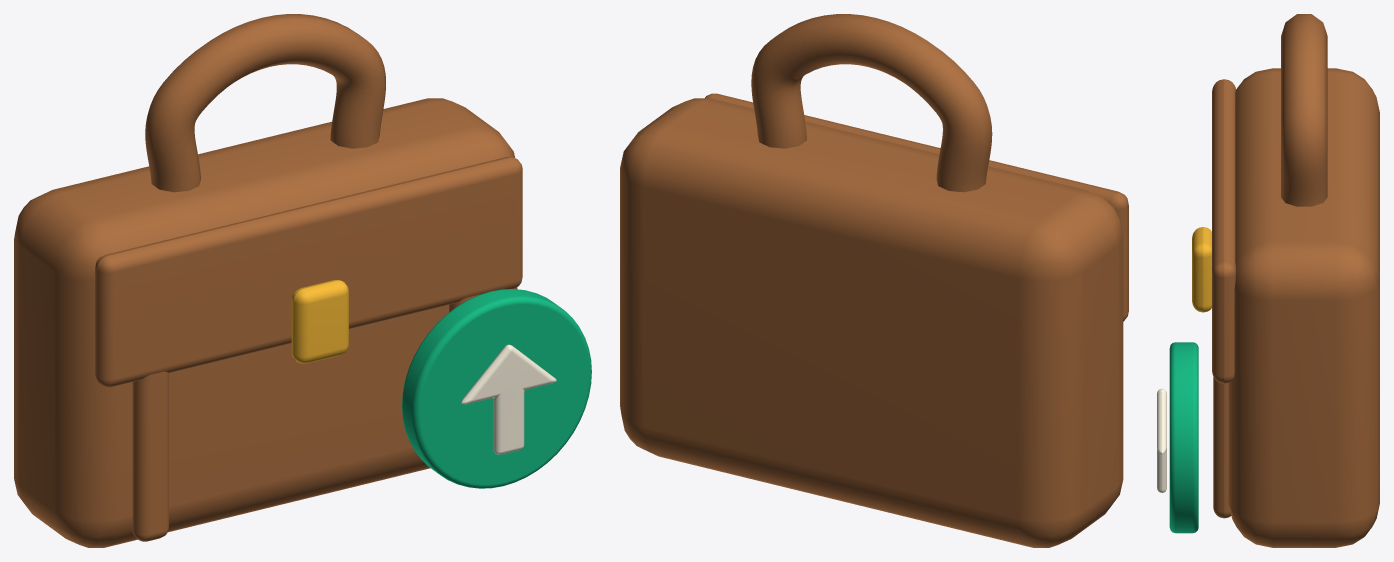
File: briefcase-up.glb
3 views of the same model, side by side, from view 1: azimuth 30°, elevation 25°; view 2: azimuth 150°, elevation 25°; view 3: azimuth 270°, elevation 25° (orthographic). The views are drawn at different scales.
Visible parts, largest first — view 1: Rounded leather briefcase, Briefcase front flap, Promotion green badge, Leather carry handle, Leather reinforced strap, Up arrow shape, Gold clasp; view 2: Rounded leather briefcase, Leather carry handle, Briefcase front flap; view 3: Rounded leather briefcase, Leather carry handle, Briefcase front flap, Promotion green badge, Leather reinforced strap.001, Gold clasp, Up arrow shape.
Part boxes in pixels (left/top/right/bottom): Rounded leather briefcase: left=14, top=98, right=517, bottom=547; Briefcase front flap: left=95, top=157, right=522, bottom=387; Promotion green badge: left=402, top=289, right=591, bottom=488; Leather carry handle: left=145, top=14, right=385, bottom=192; Leather reinforced strap: left=132, top=371, right=168, bottom=541; Up arrow shape: left=461, top=344, right=556, bottom=454; Gold clasp: left=291, top=280, right=348, bottom=363; Rounded leather briefcase: left=620, top=98, right=1123, bottom=547; Leather carry handle: left=751, top=14, right=992, bottom=192; Briefcase front flap: left=705, top=93, right=1128, bottom=321; Rounded leather briefcase: left=1228, top=68, right=1379, bottom=547; Leather carry handle: left=1281, top=14, right=1327, bottom=206; Briefcase front flap: left=1212, top=79, right=1235, bottom=383; Promotion green badge: left=1169, top=342, right=1198, bottom=533; Leather reinforced strap.001: left=1213, top=377, right=1231, bottom=518; Gold clasp: left=1192, top=227, right=1211, bottom=312; Up arrow shape: left=1157, top=388, right=1166, bottom=492.
Size of the model in its own units: 4.41 by 4.05 by 1.9.
